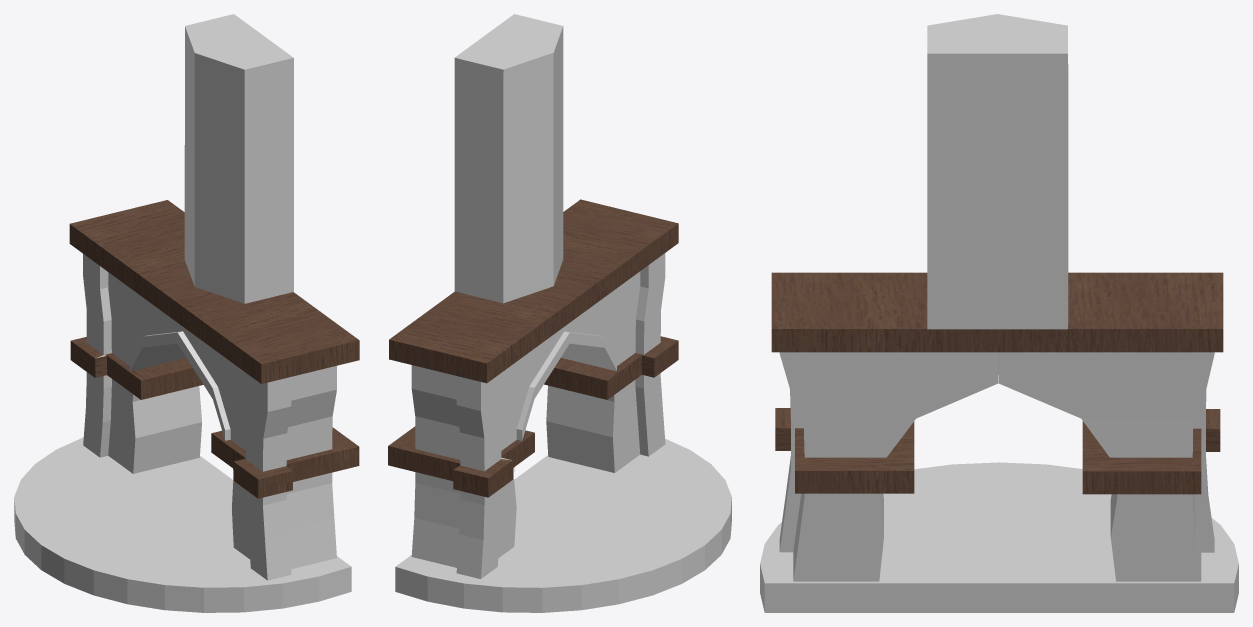
File: камин.fbx
3 views of the same model, side by side, from view 1: azimuth 30°, elevation 25°; view 2: azimuth 150°, elevation 25°; view 3: azimuth 270°, elevation 25° (orthographic). The views are drawn at different scales.
Parts seen in each view (by area): view 1: Cube.004, Cube.001; view 2: Cube.004, Cube.001; view 3: Cube.004, Cube.001.
Part boxes in pixels (x1,y1,x2,y2): Cube.004: (14,14,351,612); Cube.001: (69,200,359,498); Cube.004: (395,14,731,612); Cube.001: (388,199,678,497); Cube.004: (760,14,1238,612); Cube.001: (771,272,1223,494).
Bounding box in the file's own units: 5.53 × 10.95 × 8.4.
1 material, 1 textured.
